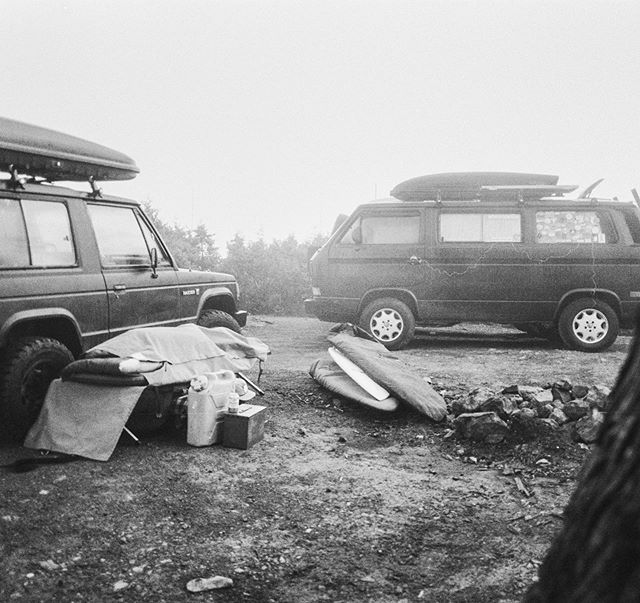car: (1, 187, 250, 414)
rocks: (424, 378, 640, 482)
sky: (1, 1, 636, 194)
van: (310, 186, 640, 350)
